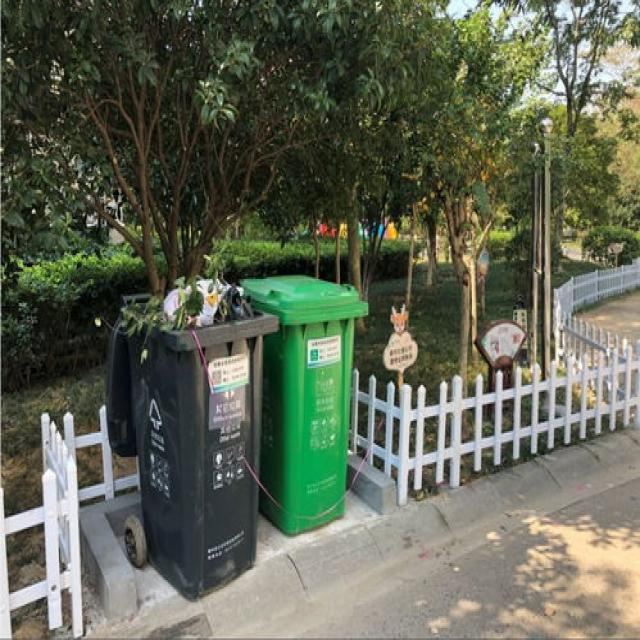garbage_bin: (241, 274, 367, 534)
overflow: (121, 274, 277, 595)
